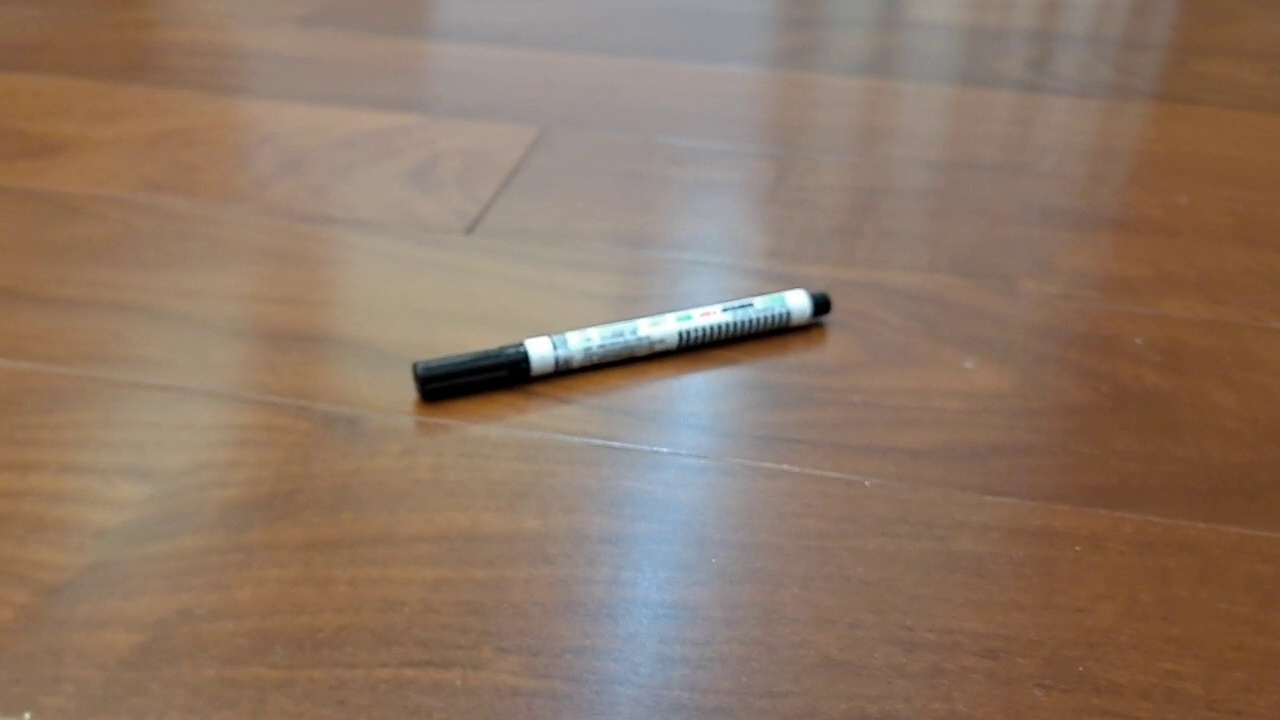pen: (411, 287, 831, 403)
